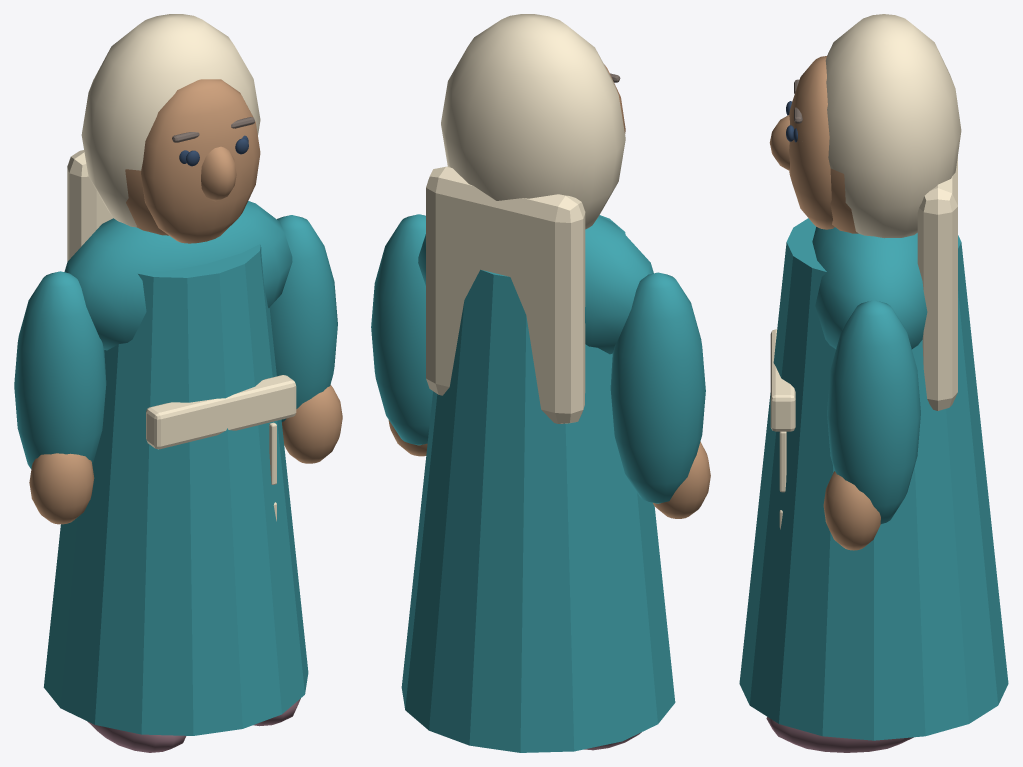
Rendered from sarai.glb.
3 renders of one model, left to right at view 1: azimuth 30°, elevation 25°; view 2: azimuth 150°, elevation 25°; view 3: azimuth 270°, elevation 25°, orthographic. The views are drawn at different scales.
Parts seen in each view (by area): view 1: Robe.001, Head veil, ArmL.001, Face, Shoulders.001, ArmR.001, Sash.001, Hand.002, Hand.003, Veil fall, Nose.001, FootL.001 (+1 smaller); view 2: Robe.001, Head veil, Veil fall, ArmL.001, ArmR.001, Shoulders.001, Hand.002; view 3: Robe.001, Head veil, ArmR.001, Shoulders.001, Veil fall, Face, Hand.003, FootR.001, Sash.001, Head.001, Nose.001, Robe fold.005.
Part boxes in pixels (bbox=[...]): Robe.001: bbox=[43, 243, 308, 735]; Head veil: bbox=[81, 14, 260, 227]; ArmL.001: bbox=[14, 271, 106, 468]; Face: bbox=[141, 79, 260, 243]; Shoulders.001: bbox=[64, 201, 292, 350]; ArmR.001: bbox=[269, 215, 337, 421]; Sash.001: bbox=[146, 375, 296, 449]; Hand.002: bbox=[29, 453, 94, 524]; Hand.003: bbox=[282, 384, 342, 463]; Veil fall: bbox=[67, 150, 113, 261]; Nose.001: bbox=[201, 146, 236, 201]; FootL.001: bbox=[87, 721, 186, 752]; Robe.001: bbox=[401, 215, 675, 752]; Head veil: bbox=[441, 14, 625, 229]; Veil fall: bbox=[426, 166, 585, 423]; ArmL.001: bbox=[610, 272, 705, 503]; ArmR.001: bbox=[371, 214, 432, 445]; Shoulders.001: bbox=[418, 215, 653, 354]; Hand.002: bbox=[653, 441, 710, 518]; Robe.001: bbox=[739, 218, 1008, 740]; Head veil: bbox=[825, 14, 961, 238]; ArmR.001: bbox=[827, 300, 920, 523]; Shoulders.001: bbox=[812, 227, 927, 349]; Veil fall: bbox=[917, 156, 957, 410]; Face: bbox=[789, 56, 834, 229]; Hand.003: bbox=[823, 471, 880, 550]; FootR.001: bbox=[766, 717, 913, 752]; Sash.001: bbox=[770, 329, 795, 431]; Head.001: bbox=[830, 168, 858, 233]; Nose.001: bbox=[769, 115, 789, 170]; Robe fold.005: bbox=[779, 431, 786, 492].
Size of the model in its own units: 1.08 by 2.3 by 0.8.
